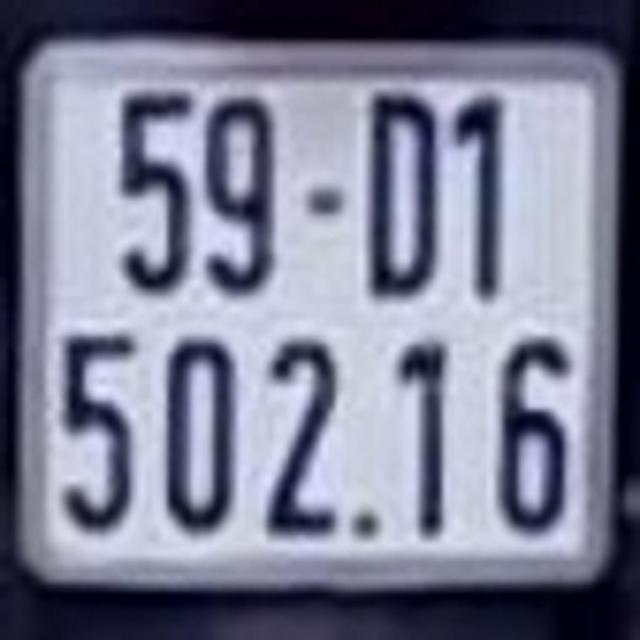0: (162, 328, 242, 539)
1: (384, 329, 460, 538), (442, 91, 516, 303)
2: (262, 322, 342, 546)
5: (115, 76, 196, 308), (52, 329, 141, 530)
6: (490, 315, 578, 544)
9: (199, 73, 278, 298)
D: (360, 68, 442, 310)
